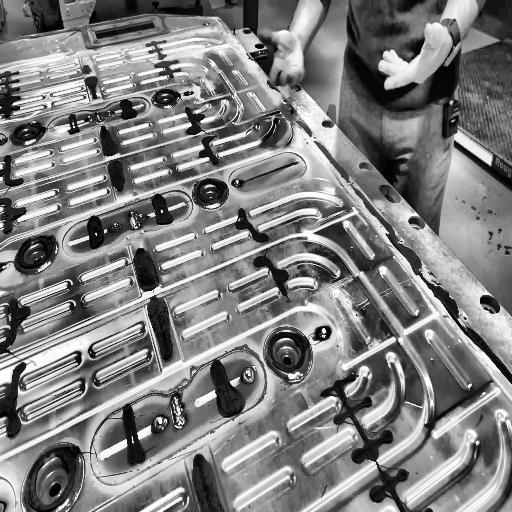b_casing: (0, 14, 512, 512)
